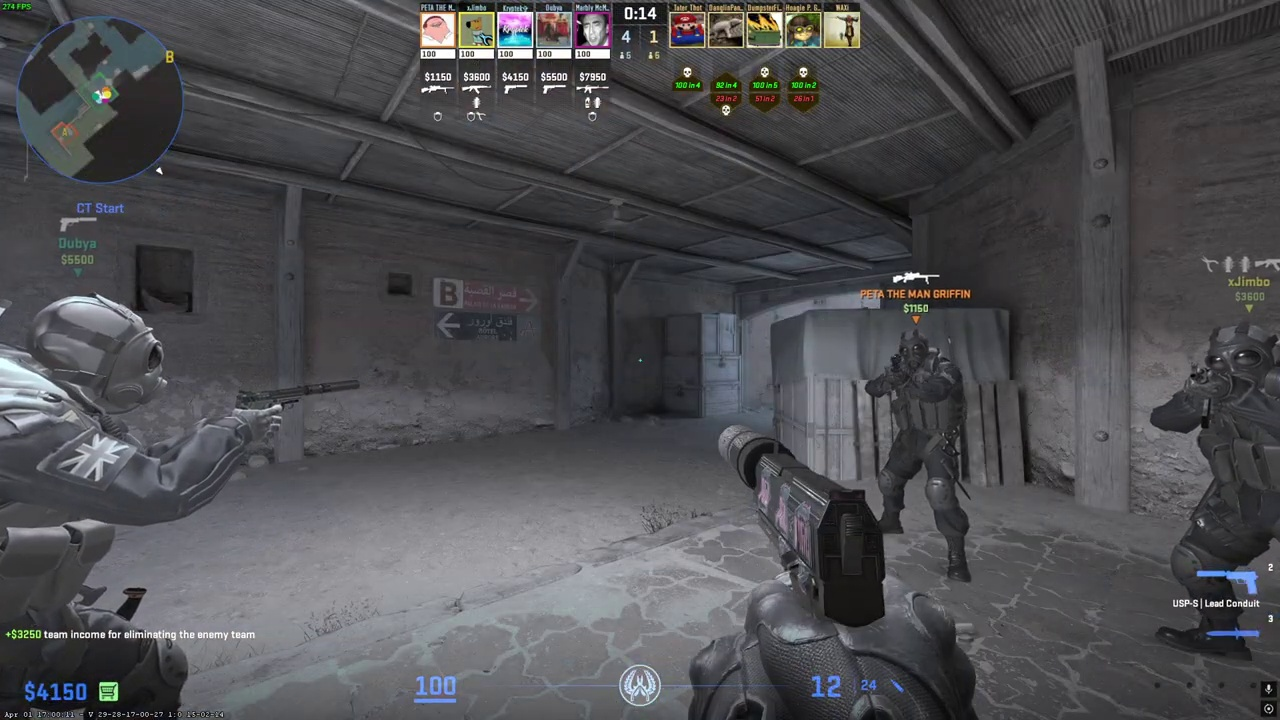CT: (0, 292, 210, 720), (1153, 321, 1279, 658), (868, 329, 971, 584)
